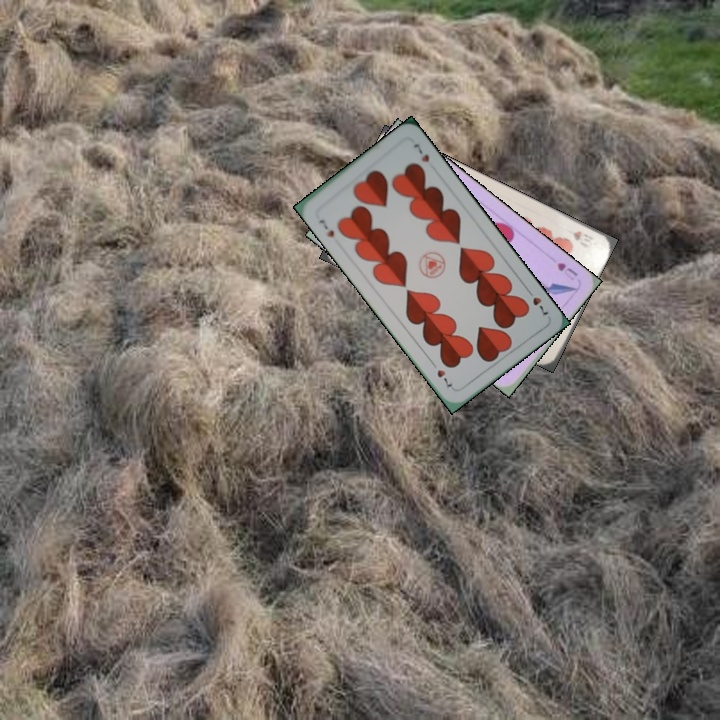H10: (569, 227, 595, 251)
H7: (522, 284, 551, 319), (315, 215, 337, 240)
HU: (553, 258, 580, 283)
